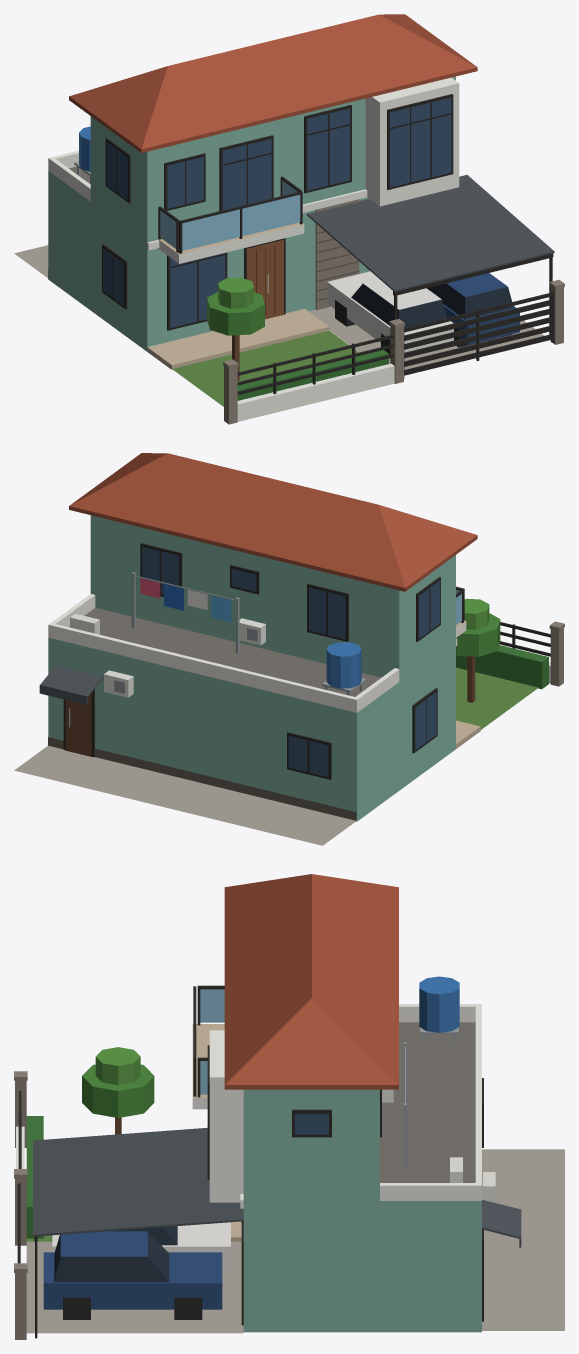
The model's file is rumah2_05.glb.
3 views of the same model, one above another, from view 1: azimuth 30°, elevation 25°; view 2: azimuth 150°, elevation 25°; view 3: azimuth 270°, elevation 25° (orthographic). The views are drawn at different scales.
Parts seen in each view (by area): view 1: rumah2_05; view 2: rumah2_05; view 3: rumah2_05.
Part boxes in pixels (x1,y1,x2,y2): rumah2_05: (14,14,564,424); rumah2_05: (14,453,564,845); rumah2_05: (14,874,564,1339).
Bounding box in the file's own units: 11 × 7.92 × 12.95.
